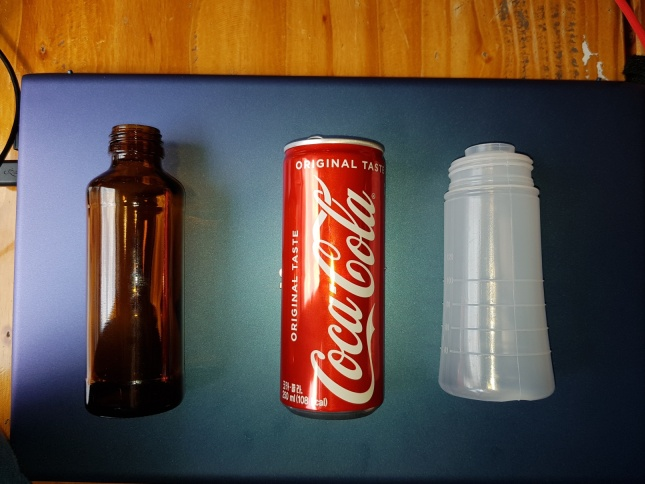Can: (274, 132, 389, 422)
Glass: (79, 118, 188, 420)
Plastic: (432, 139, 559, 405)
